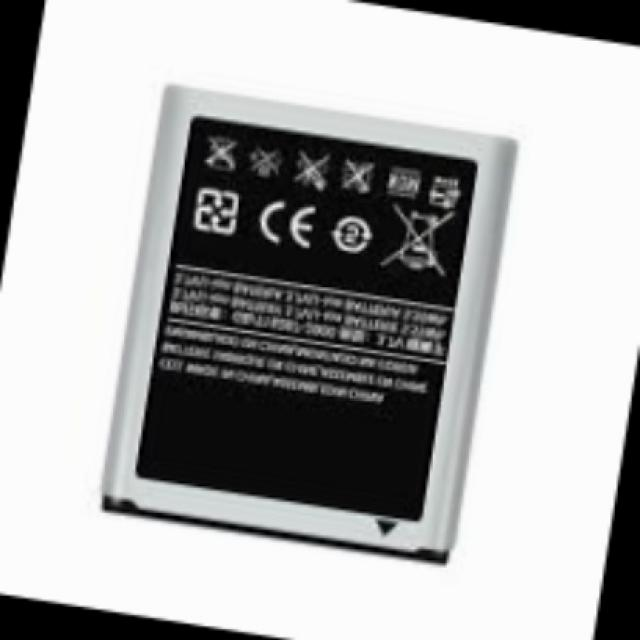elektronik: (105, 86, 520, 558)
